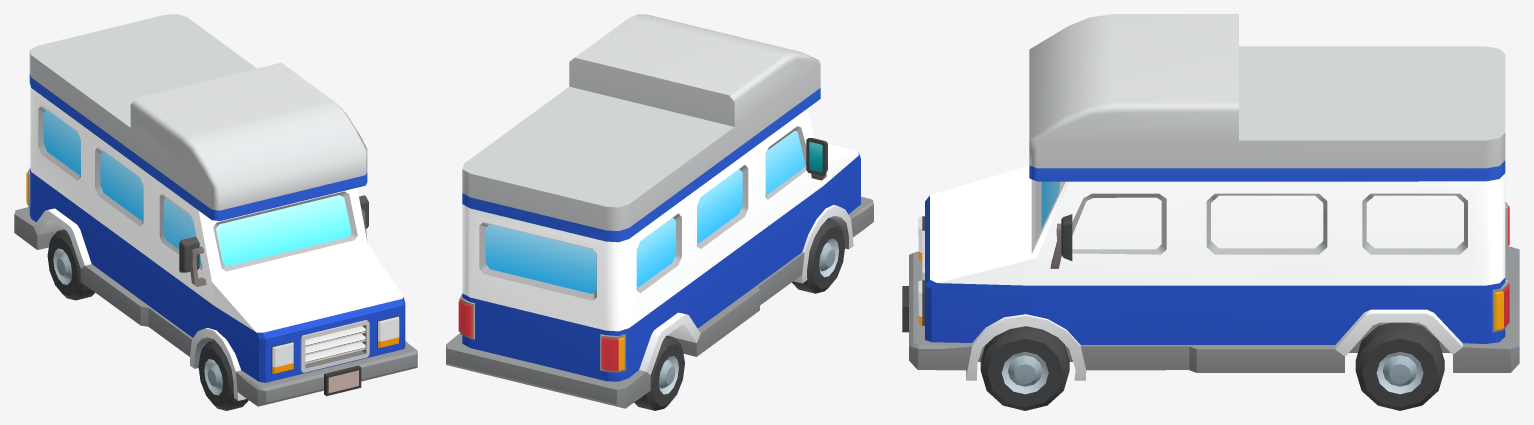
The model's file is Camp_Cargo_02.glb.
3 renders of one model, left to right at view 1: azimuth 30°, elevation 25°; view 2: azimuth 150°, elevation 25°; view 3: azimuth 270°, elevation 25°, orthographic. The views are drawn at different scales.
Visible parts, largest first — view 1: Camp_Cargo_02, Wheel_229, Wheel_230; view 2: Camp_Cargo_02, Wheel_229, Wheel_230; view 3: Camp_Cargo_02, Wheel_232, Wheel_231.
Boxes of the visible parts, bbox=[...] form: Camp_Cargo_02: bbox=[14, 14, 417, 406]; Wheel_229: bbox=[198, 340, 248, 410]; Wheel_230: bbox=[47, 229, 95, 300]; Camp_Cargo_02: bbox=[446, 14, 873, 408]; Wheel_229: bbox=[792, 218, 845, 293]; Wheel_230: bbox=[634, 335, 684, 410]; Camp_Cargo_02: bbox=[902, 14, 1519, 380]; Wheel_232: bbox=[1355, 322, 1444, 410]; Wheel_231: bbox=[980, 326, 1069, 410].
Bounding box in the file's own units: 2.4 × 3.03 × 5.53.
2 materials, 2 textured.
